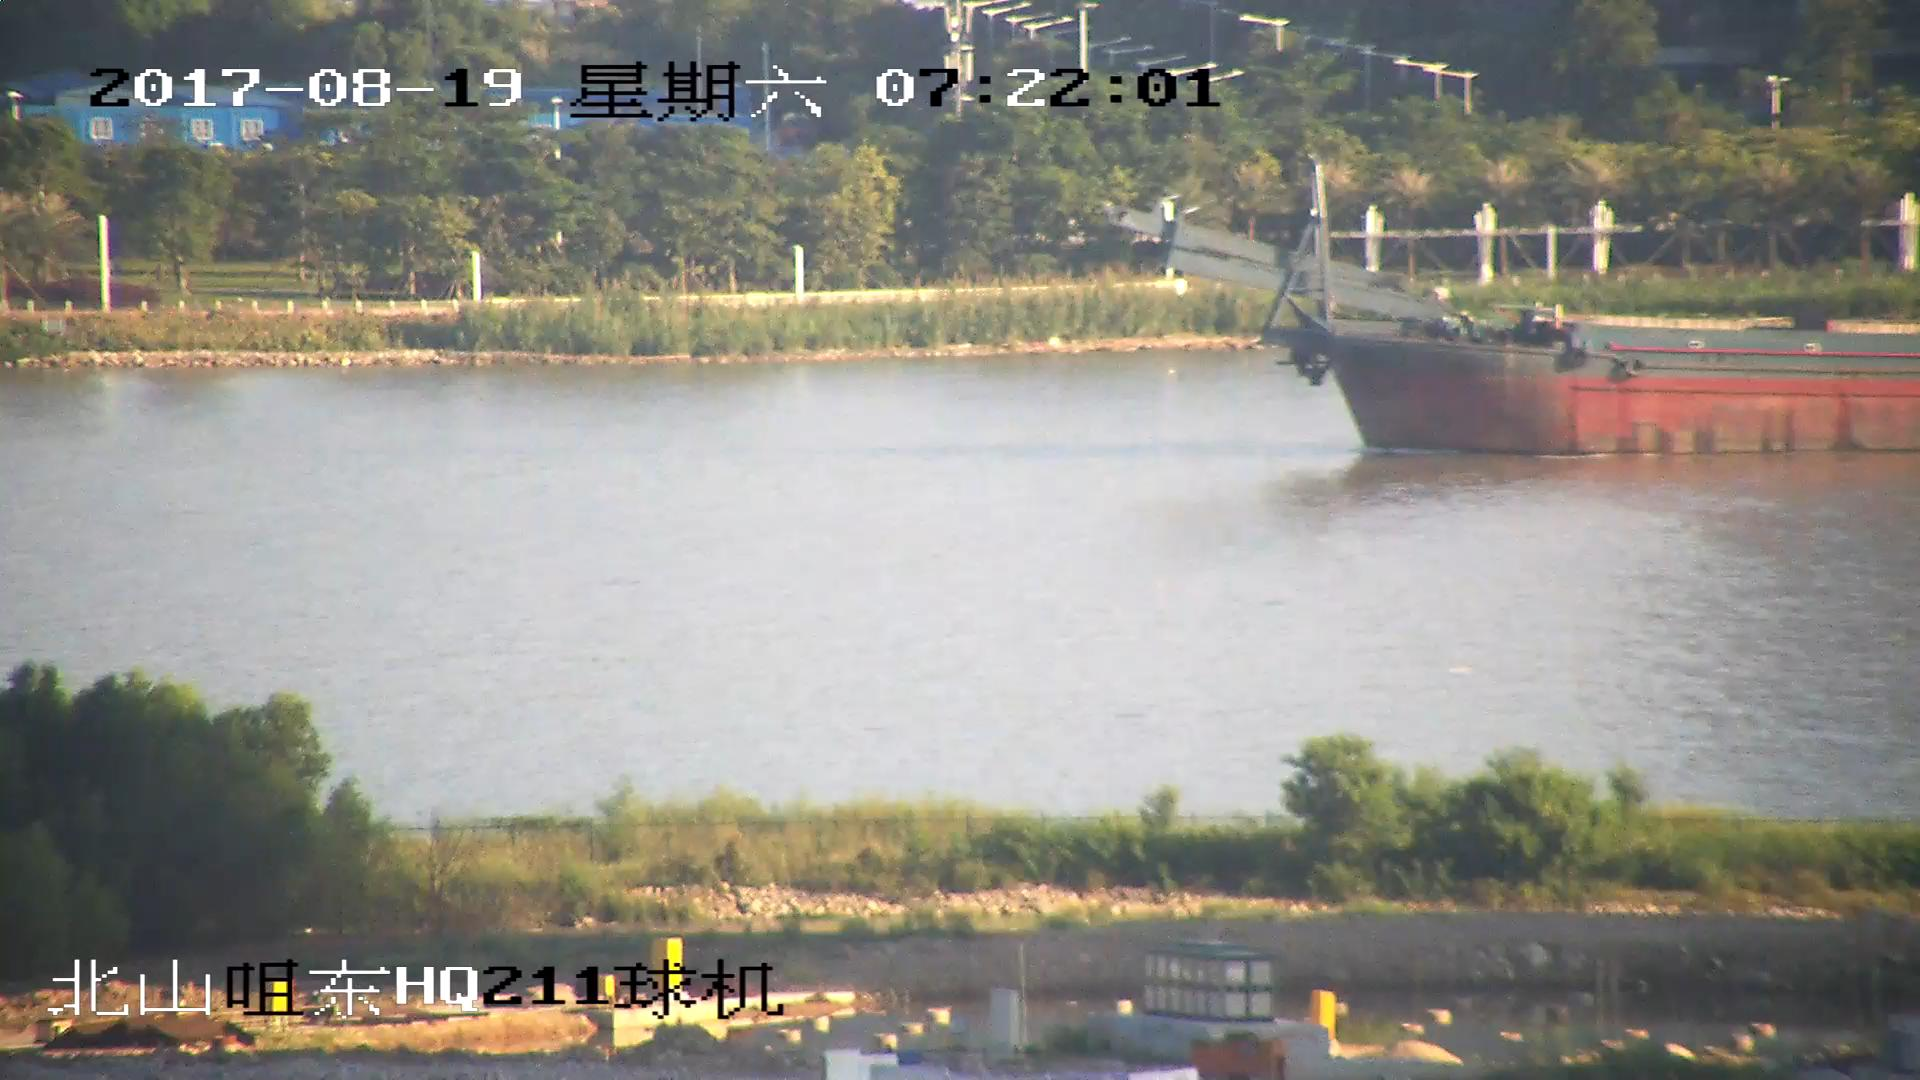bulk cargo carrier: (1111, 174, 1920, 459)
